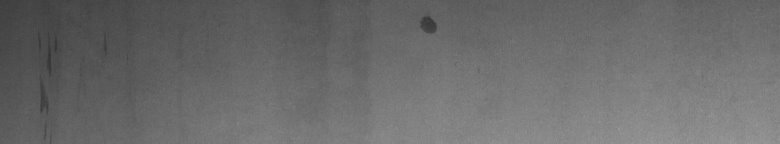fi: (416, 9, 441, 40)
